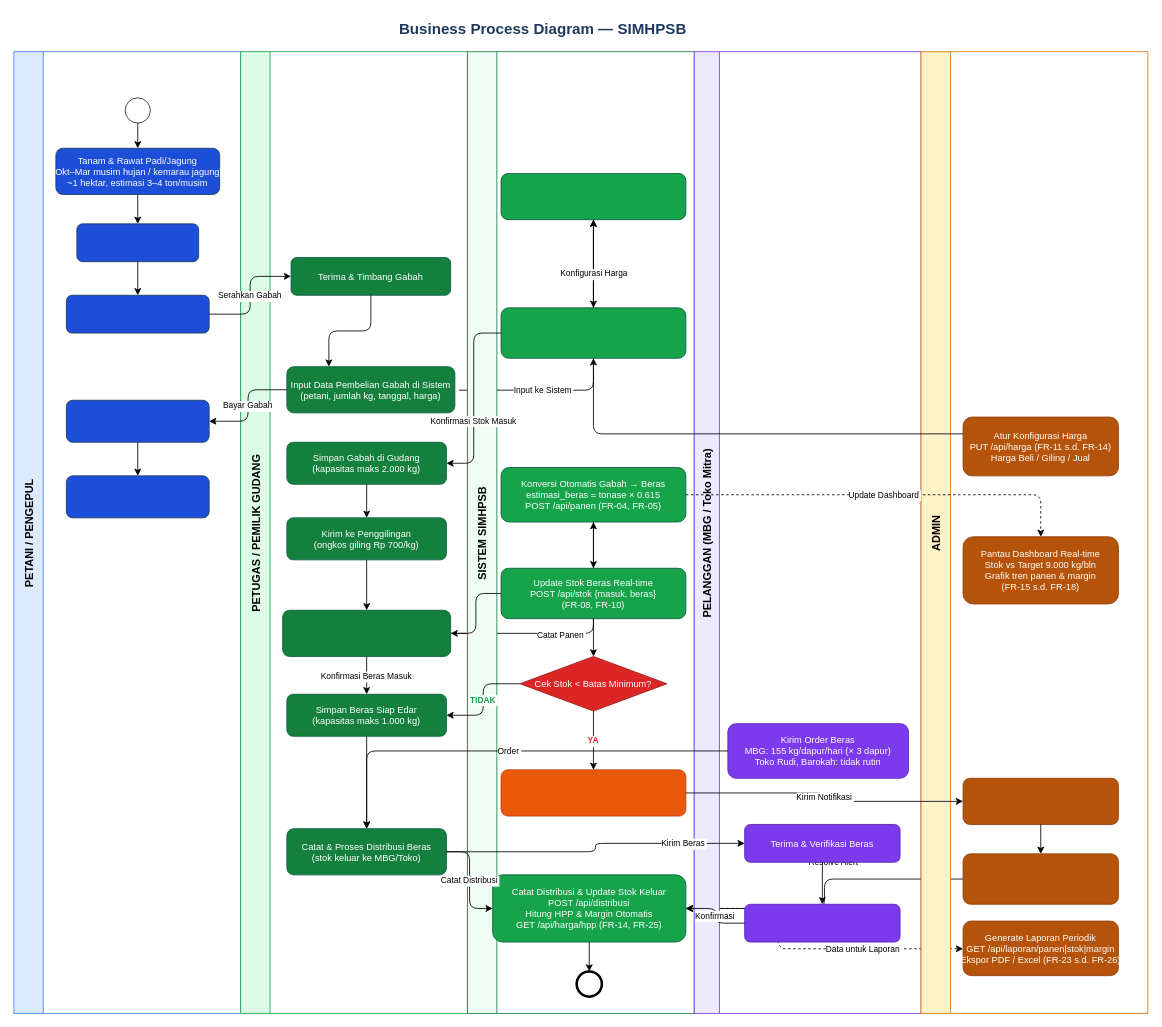
Some shapes in this 1162 by 1027 pixel diagram are drawn without their labels. Here are the shapes that lost their labels. From the top down, the centre of each, then its label:
pixel 593 196: Validasi & Simpan Data Petani (FR-01, FR-02, FR-03)
pixel 137 242: Panen Gabah
pixel 137 313: Tawarkan Gabah ke Gudang
pixel 593 332: Update Stok Gabah Real-time POST /api/stok {masuk, gabah} (FR-07, FR-08)
pixel 137 420: Terima Pembayaran Gabah (Rp 760.000 / 100 kg)
pixel 137 496: Lihat Data Panen & Harga Beli (via Akun Petani Mitra)
pixel 366 632: Input Data Hasil Giling di Sistem (tonase gabah → konversi beras)
pixel 593 792: Buat Alert & Push Notifikasi INSERT alert_log (FR-19, FR-20)
pixel 1040 800: Terima Notifikasi Alert Stok (via Dashboard / Push Notif)
pixel 1040 878: Tandai Alert 'Sudah Ditangani' PUT /api/alert/{id}/resolve (FR-22)
pixel 822 922: Konfirmasi Penerimaan
